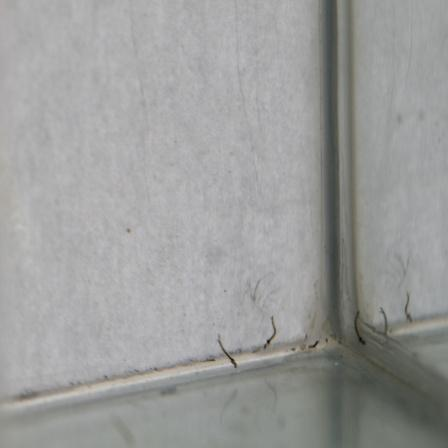Jentik-Nyamuk: (214, 331, 241, 371), (260, 315, 281, 353), (350, 311, 367, 346)
